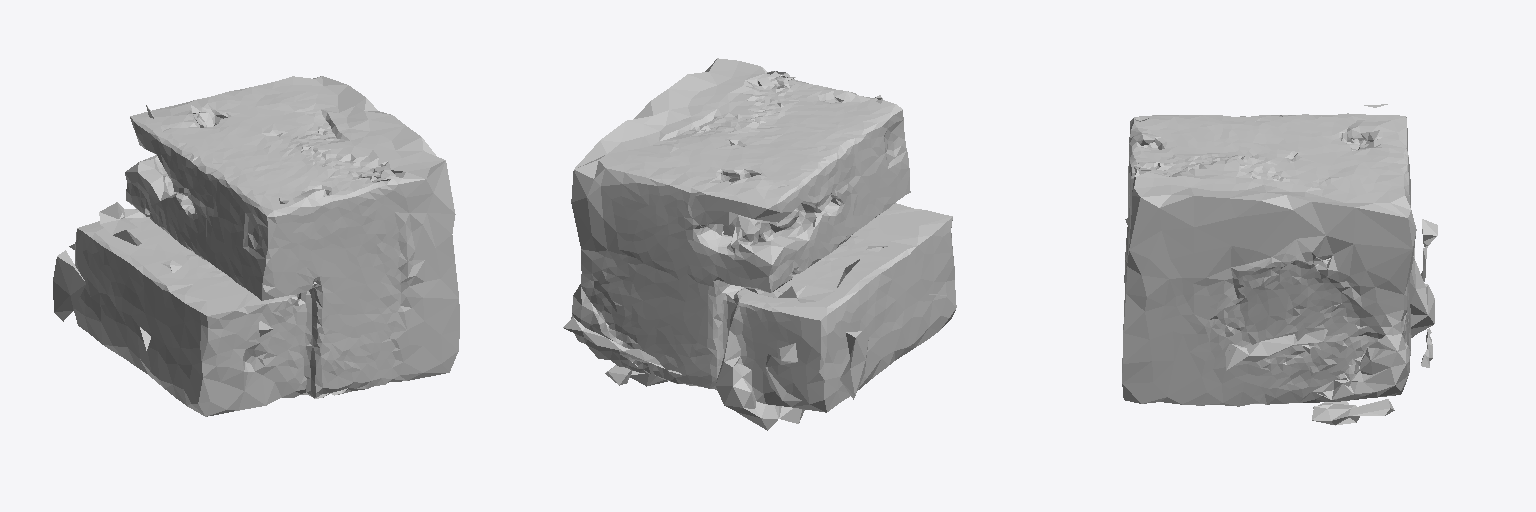
Rendered from Cypress Double Suite Bathroom.obj.
3 views of the same model, side by side, from view 1: azimuth 30°, elevation 25°; view 2: azimuth 150°, elevation 25°; view 3: azimuth 270°, elevation 25° (orthographic).
Parts seen in each view (by area): view 1: mesh_simple_rotated_0; view 2: mesh_simple_rotated_0; view 3: mesh_simple_rotated_0.
Part boxes in pixels (x1,y1,x2,y2): mesh_simple_rotated_0: (53,76,459,416); mesh_simple_rotated_0: (563,58,956,430); mesh_simple_rotated_0: (1122,104,1437,425).
Size of the model in its own units: 2.82 by 2.29 by 2.63.